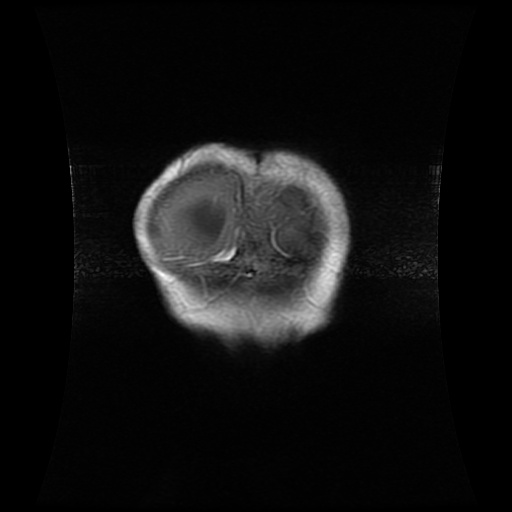glioma: (178, 195, 227, 248)
